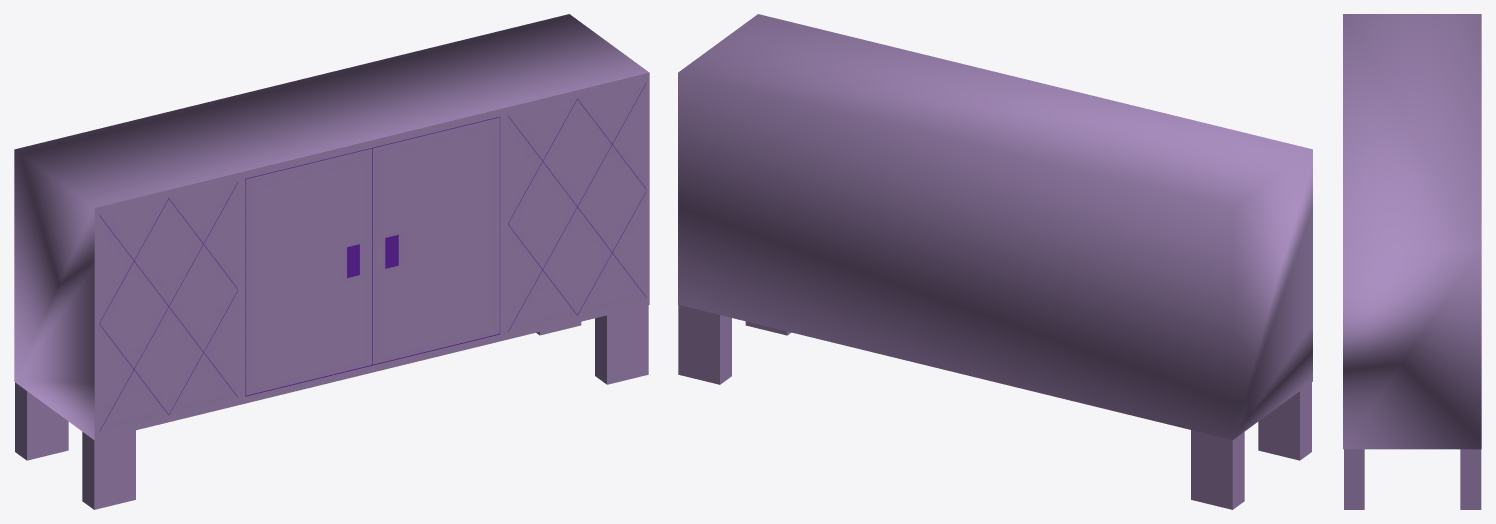
File: Bureau.obj
3 views of the same model, side by side, from view 1: azimuth 30°, elevation 25°; view 2: azimuth 150°, elevation 25°; view 3: azimuth 270°, elevation 25° (orthographic). The views are drawn at different scales.
Parts seen in each view (by area): view 1: pCube4; view 2: pCube4; view 3: pCube4.
Part boxes in pixels (x1=…): pCube4: x1=14, y1=14, x2=649, y2=509; pCube4: x1=678, y1=14, x2=1312, y2=509; pCube4: x1=1343, y1=14, x2=1481, y2=509.
Size of the model in its own units: 200 by 104 by 50.49.
4 materials, 4 textured.
